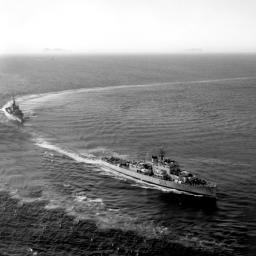Fragata: (93, 147, 222, 204)
